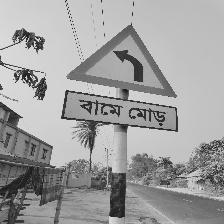Left-Turn: (63, 25, 179, 134)
